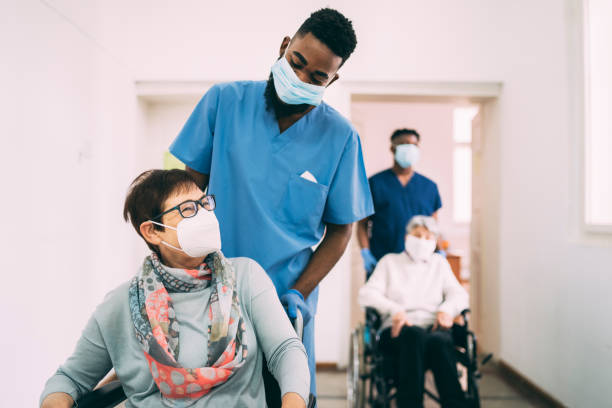with mask: (263, 6, 355, 112), (132, 174, 227, 267), (385, 113, 438, 178), (394, 206, 447, 271)
